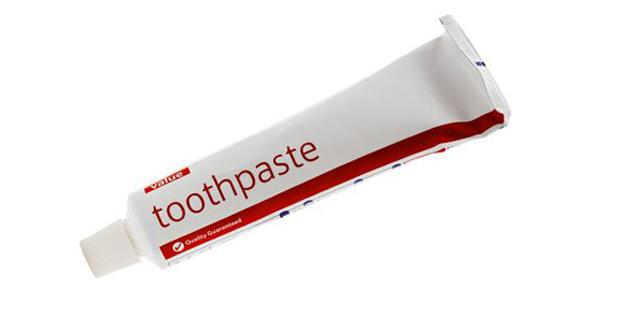toothpaste: (76, 11, 509, 284)
